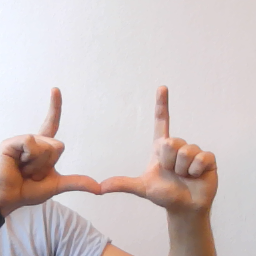U: (2, 81, 221, 220)
